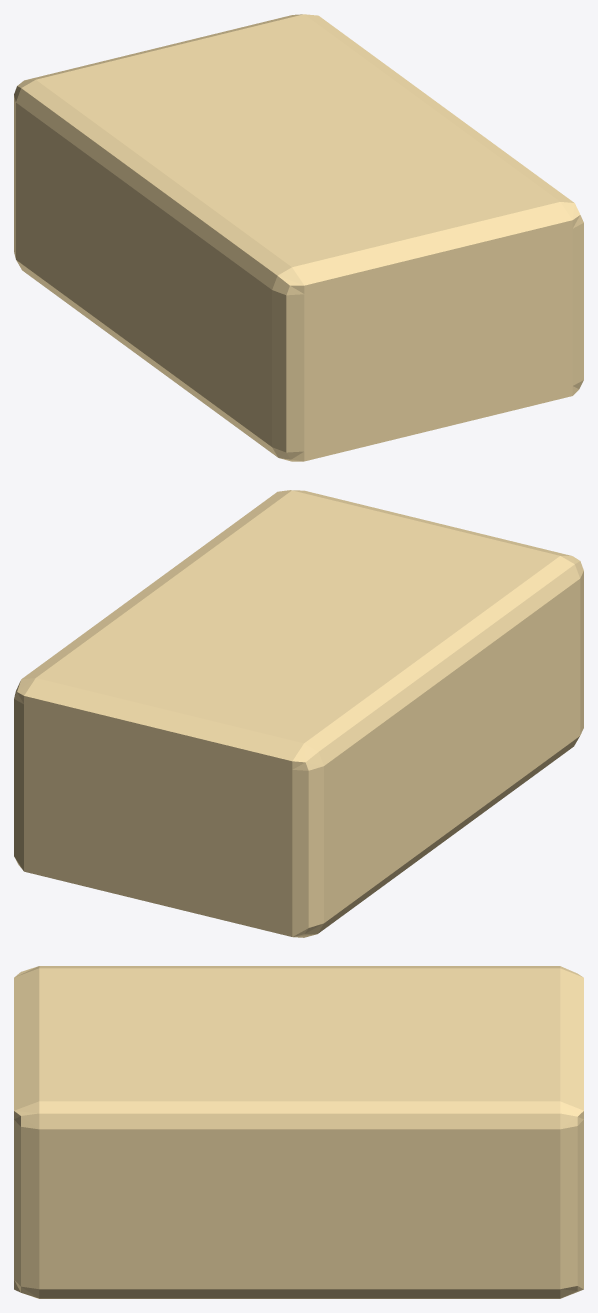
File: butter.fbx
3 renders of one model, top to bottom at view 1: azimuth 30°, elevation 25°; view 2: azimuth 150°, elevation 25°; view 3: azimuth 270°, elevation 25°, orthographic.
Visible parts, largest first — view 1: Object_4; view 2: Object_4; view 3: Object_4.
Part boxes in pixels (x1,y1,x2,y2): Object_4: (14, 14, 583, 461); Object_4: (14, 490, 583, 937); Object_4: (14, 966, 583, 1298).
Size of the model in its own units: 63.44 by 38.26 by 100.
